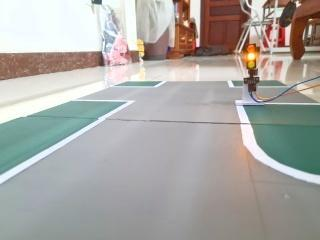yellow: (240, 39, 265, 77)
